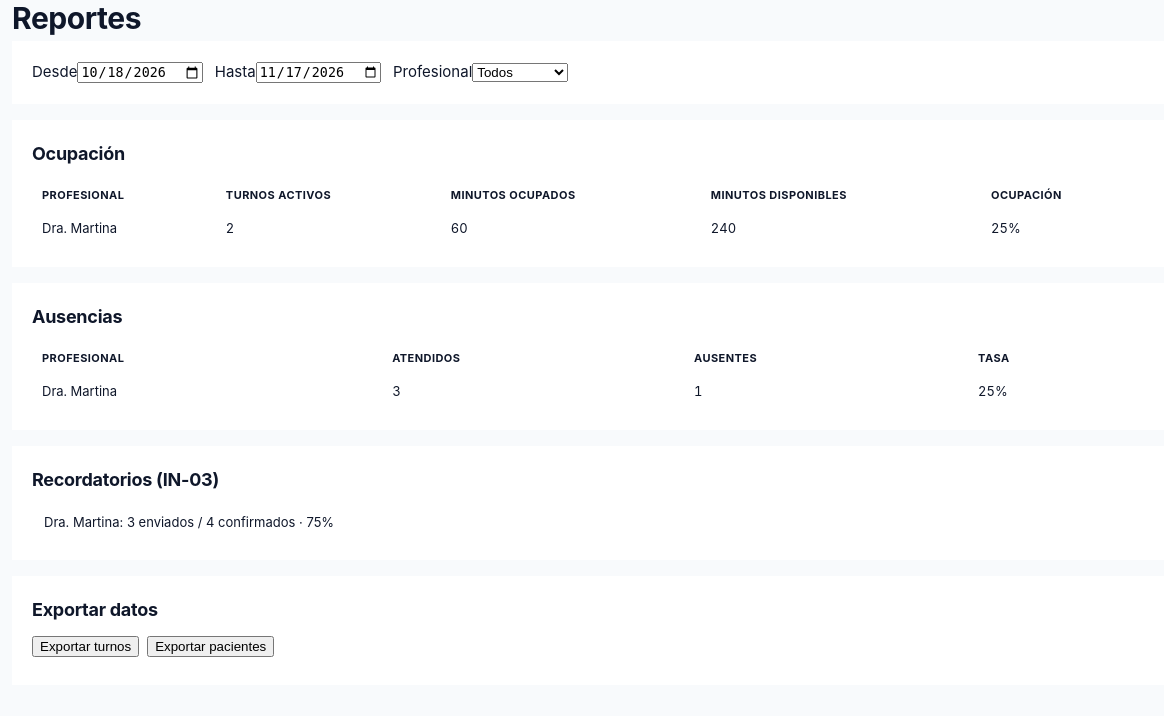
Test: reportes › muestra el error de un export fallido y permite reintentar
This screenshot has width=1164, height=716.
Later steps or results of the test are not shown.
Click the button "Exportar turnos".
click(86, 646)  # box [32,636,139,657]
(page scrolled)
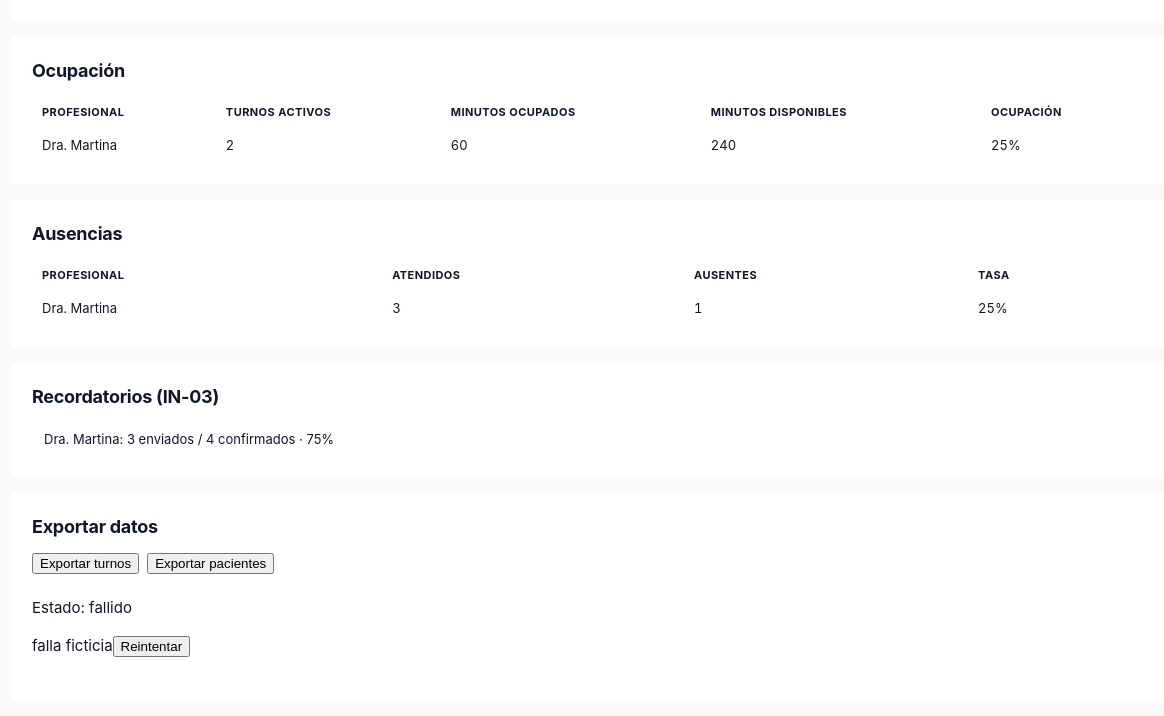
Expected: the text "falla ficticia Reintentar" is shown, [32,636,190,656]
